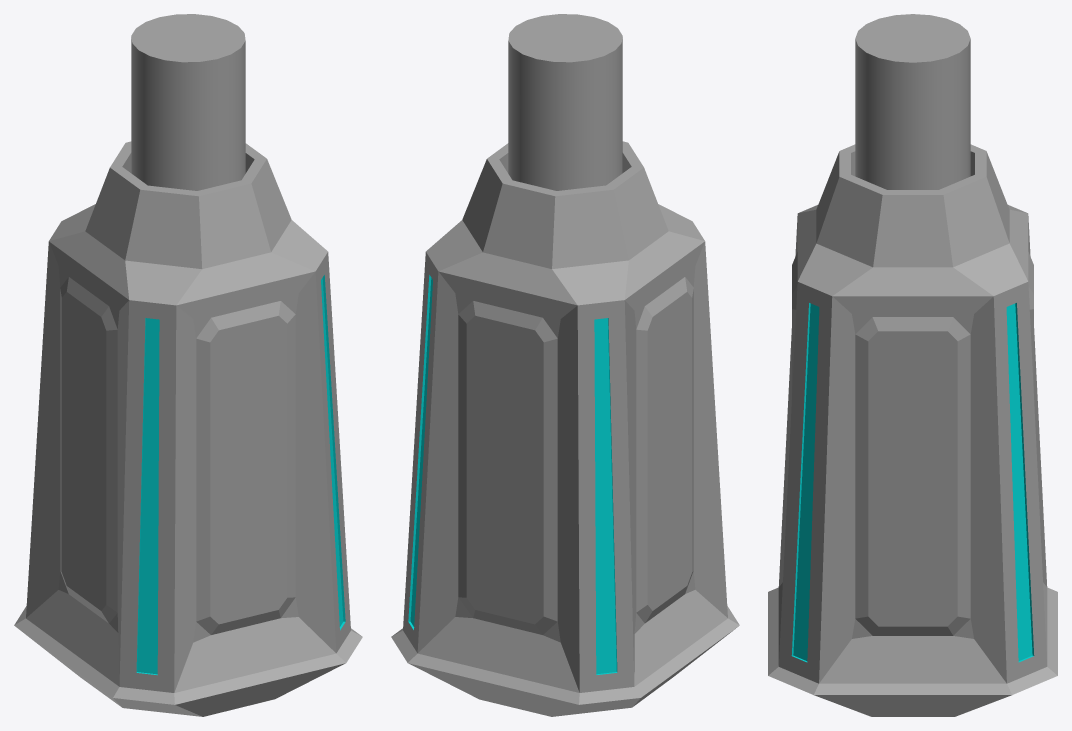
The model's file is Drop Pod.fbx.
3 renders of one model, left to right at view 1: azimuth 30°, elevation 25°; view 2: azimuth 150°, elevation 25°; view 3: azimuth 270°, elevation 25°, orthographic.
Visible parts, largest first — view 1: Drop_Pod, Drop_Pod_Door_2, Drop_Pod_Trail, Drop_Pod_Door_3; view 2: Drop_Pod, Drop_Pod_Door_4, Drop_Pod_Trail, Drop_Pod_Door_3; view 3: Drop_Pod, Drop_Pod_Door_1, Drop_Pod_Trail, Drop_Pod_Door_2, Drop_Pod_Door_4.
Boxes of the visible parts, left/top/right/bottom form: Drop_Pod: left=14, top=141, right=362, bottom=716; Drop_Pod_Door_2: left=196, top=301, right=295, bottom=634; Drop_Pod_Trail: left=131, top=14, right=245, bottom=190; Drop_Pod_Door_3: left=60, top=277, right=117, bottom=623; Drop_Pod: left=391, top=141, right=739, bottom=716; Drop_Pod_Door_4: left=458, top=301, right=557, bottom=634; Drop_Pod_Trail: left=508, top=14, right=622, bottom=190; Drop_Pod_Door_3: left=636, top=277, right=693, bottom=623; Drop_Pod: left=768, top=144, right=1057, bottom=716; Drop_Pod_Door_1: left=855, top=317, right=970, bottom=635; Drop_Pod_Trail: left=855, top=14, right=970, bottom=189; Drop_Pod_Door_2: left=792, top=252, right=797, bottom=392; Drop_Pod_Door_4: left=1028, top=252, right=1033, bottom=392.
Size of the model in its own units: 126 by 309 by 126.
